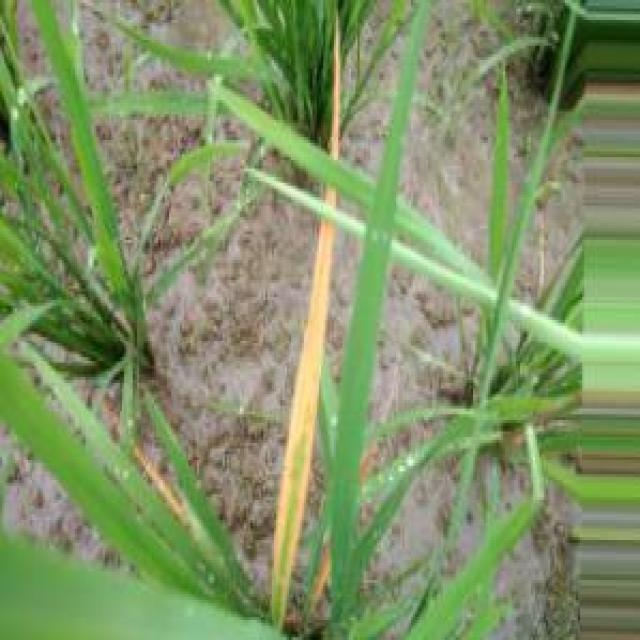Rice Tungro: (271, 220, 335, 627), (330, 15, 339, 158)
